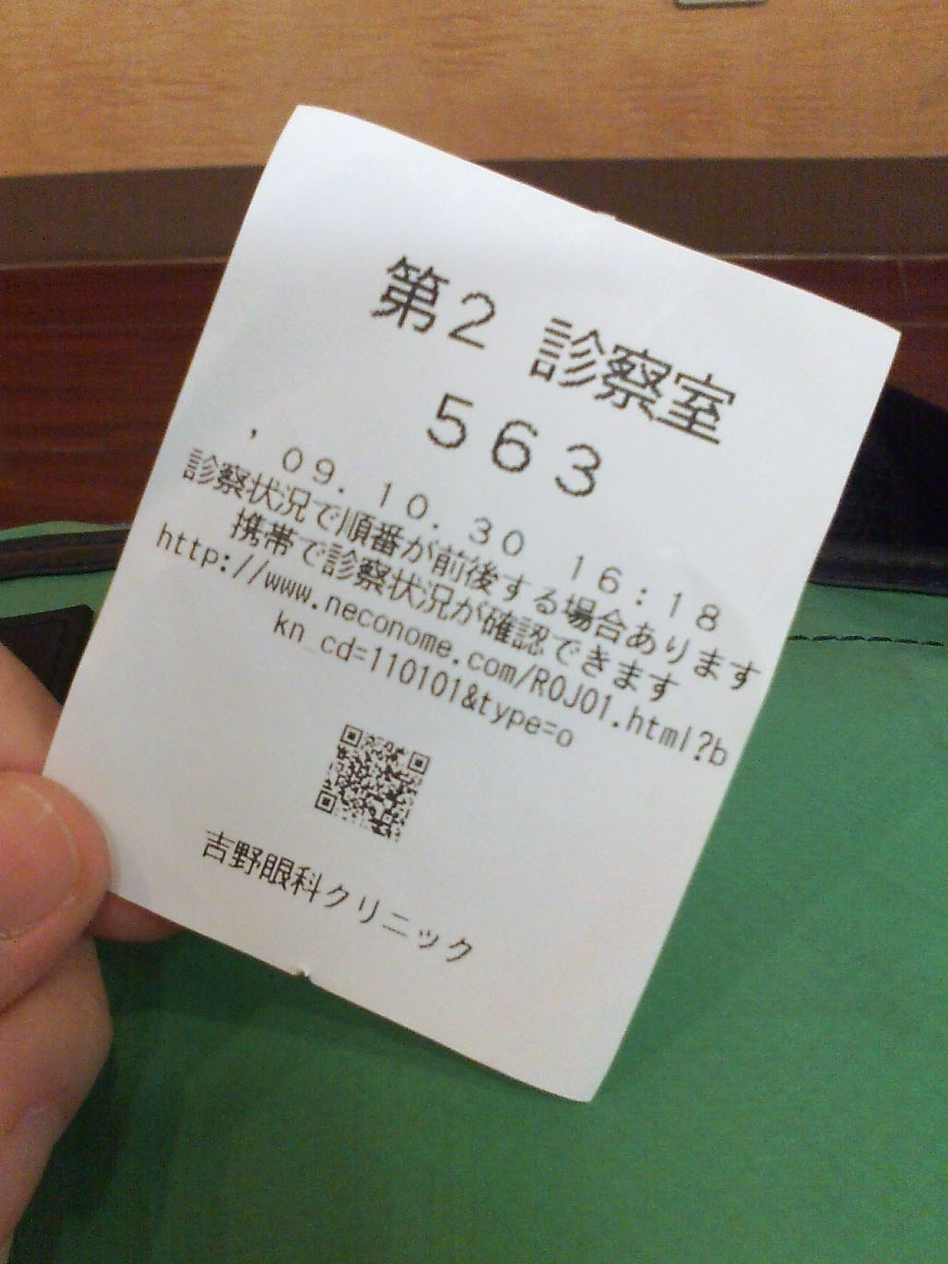QR-CODE: (314, 724, 430, 841)
